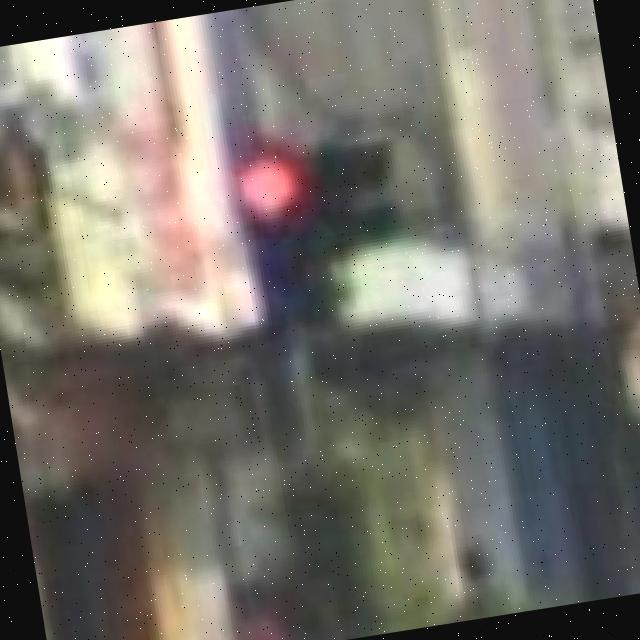Czerwone swiatlo: (232, 143, 336, 348)
